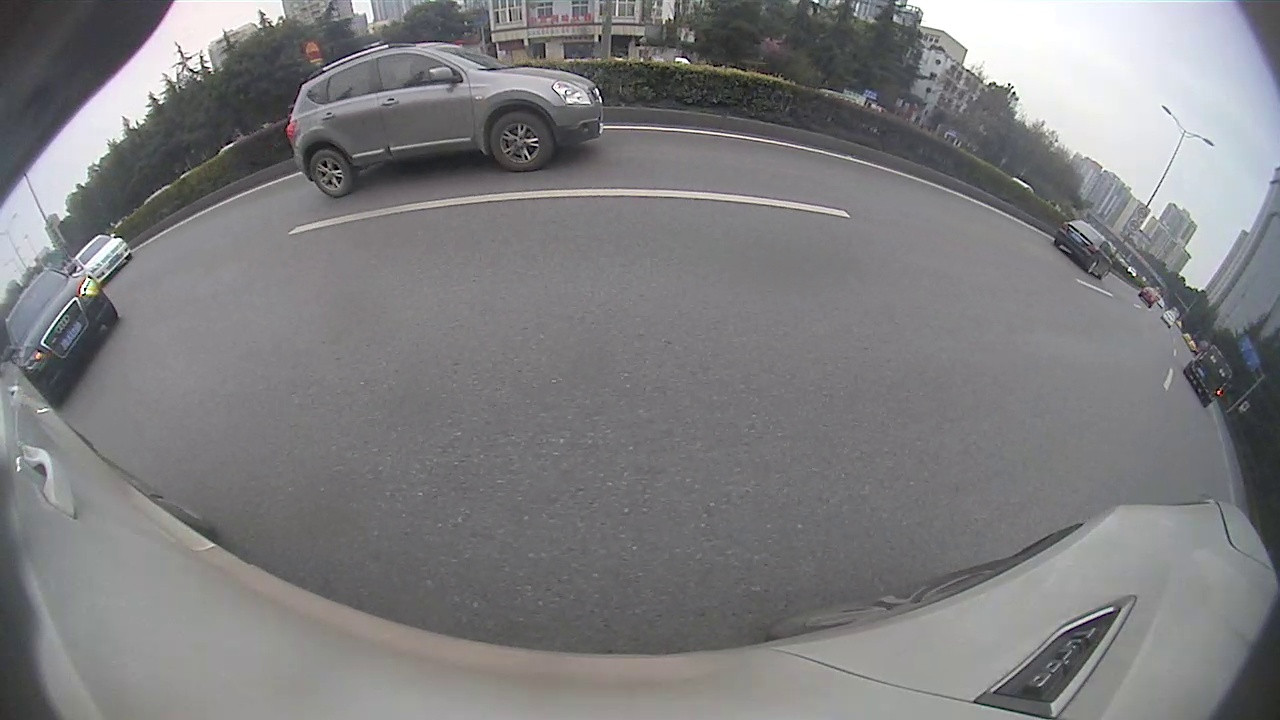car: (287, 43, 603, 198), (6, 267, 117, 399), (1054, 218, 1113, 280), (1184, 343, 1230, 407), (72, 232, 129, 283)
front: (489, 109, 559, 172)
rear: (307, 146, 359, 199)
